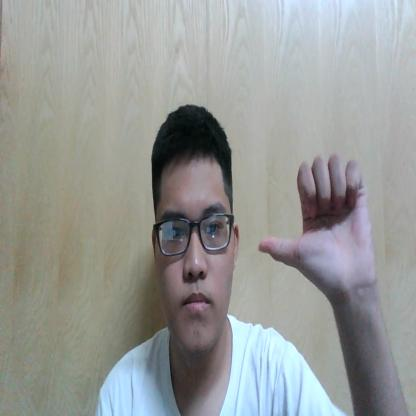right: (258, 155, 378, 293)
